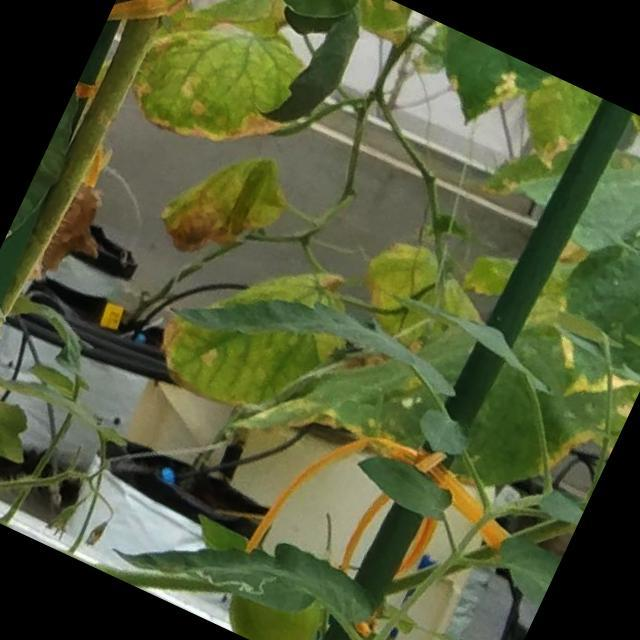Tomato target spot leaf: (107, 475, 386, 640)
